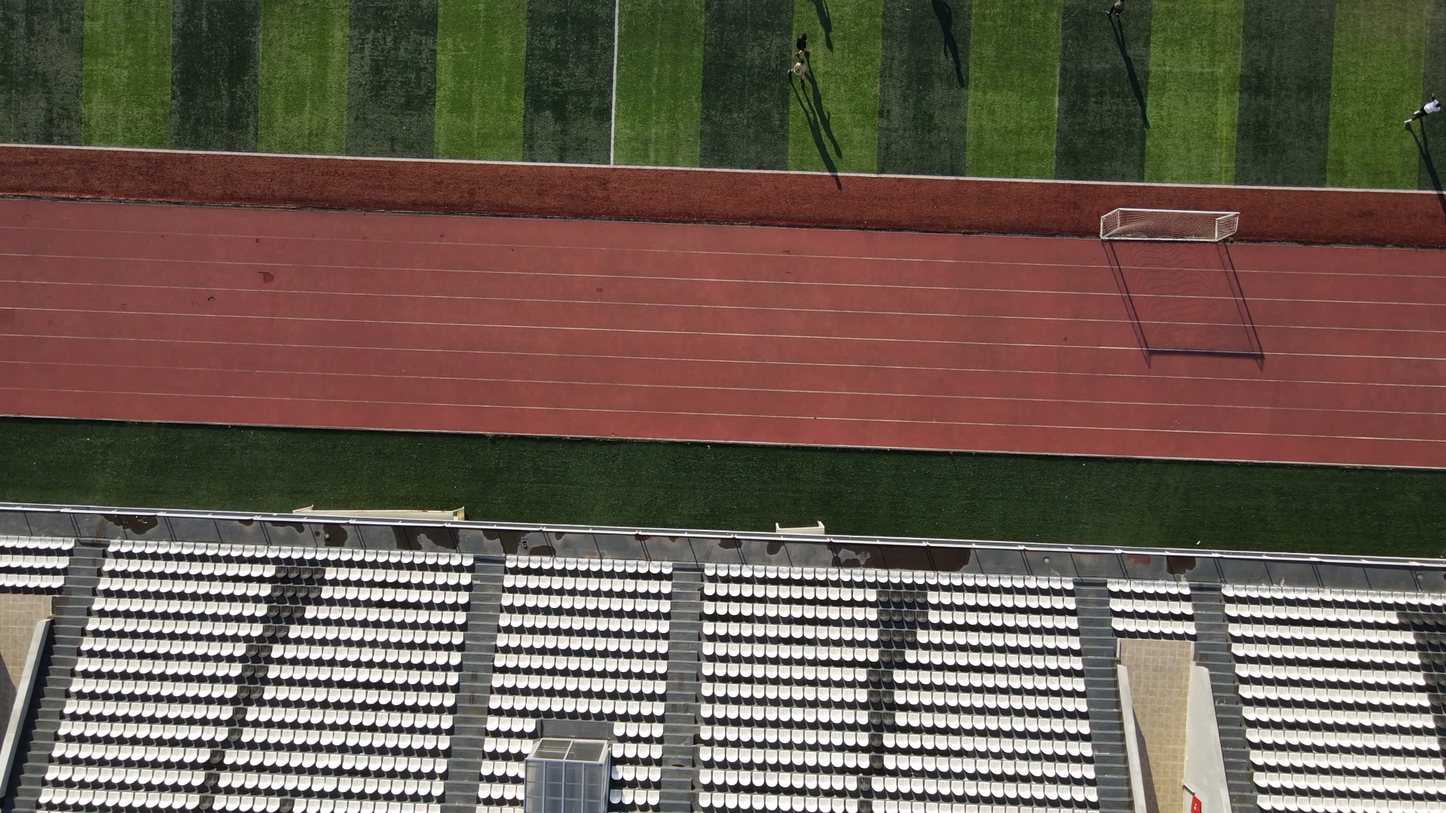person: (1403, 91, 1445, 130), (788, 58, 808, 83), (1108, 0, 1127, 22), (795, 31, 811, 57)
